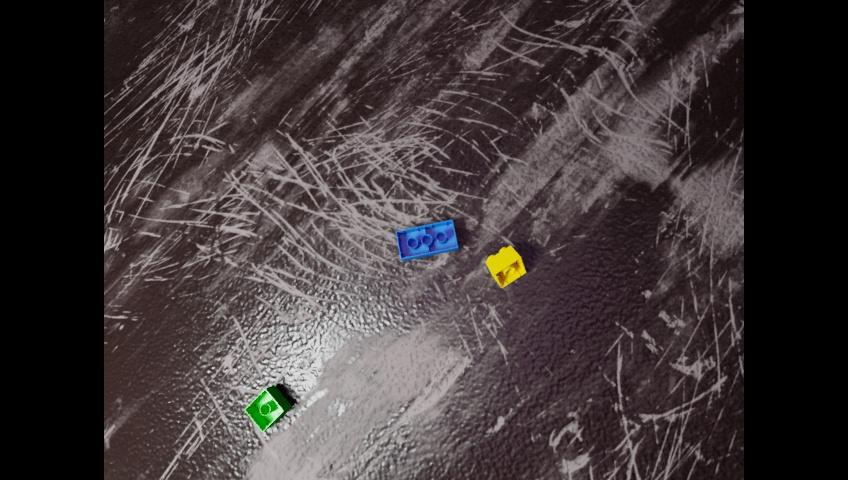2x2_green: (244, 384, 290, 431)
2x2_yellow: (487, 245, 525, 287)
4x2_blue: (395, 219, 457, 260)
